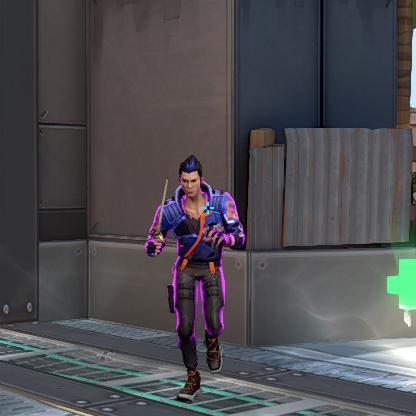enemyBody: (177, 201, 218, 259)
enemyHead: (181, 169, 200, 194)
